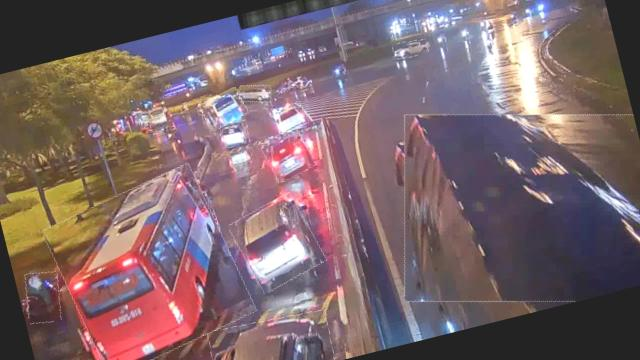Bike: (19, 268, 66, 326)
Bus: (43, 164, 256, 360), (198, 87, 250, 131)
Car: (228, 193, 326, 294), (206, 305, 336, 360), (260, 127, 316, 183), (273, 102, 309, 134), (218, 120, 251, 150), (237, 80, 273, 106), (392, 37, 430, 61)
Truck: (375, 73, 640, 338)
